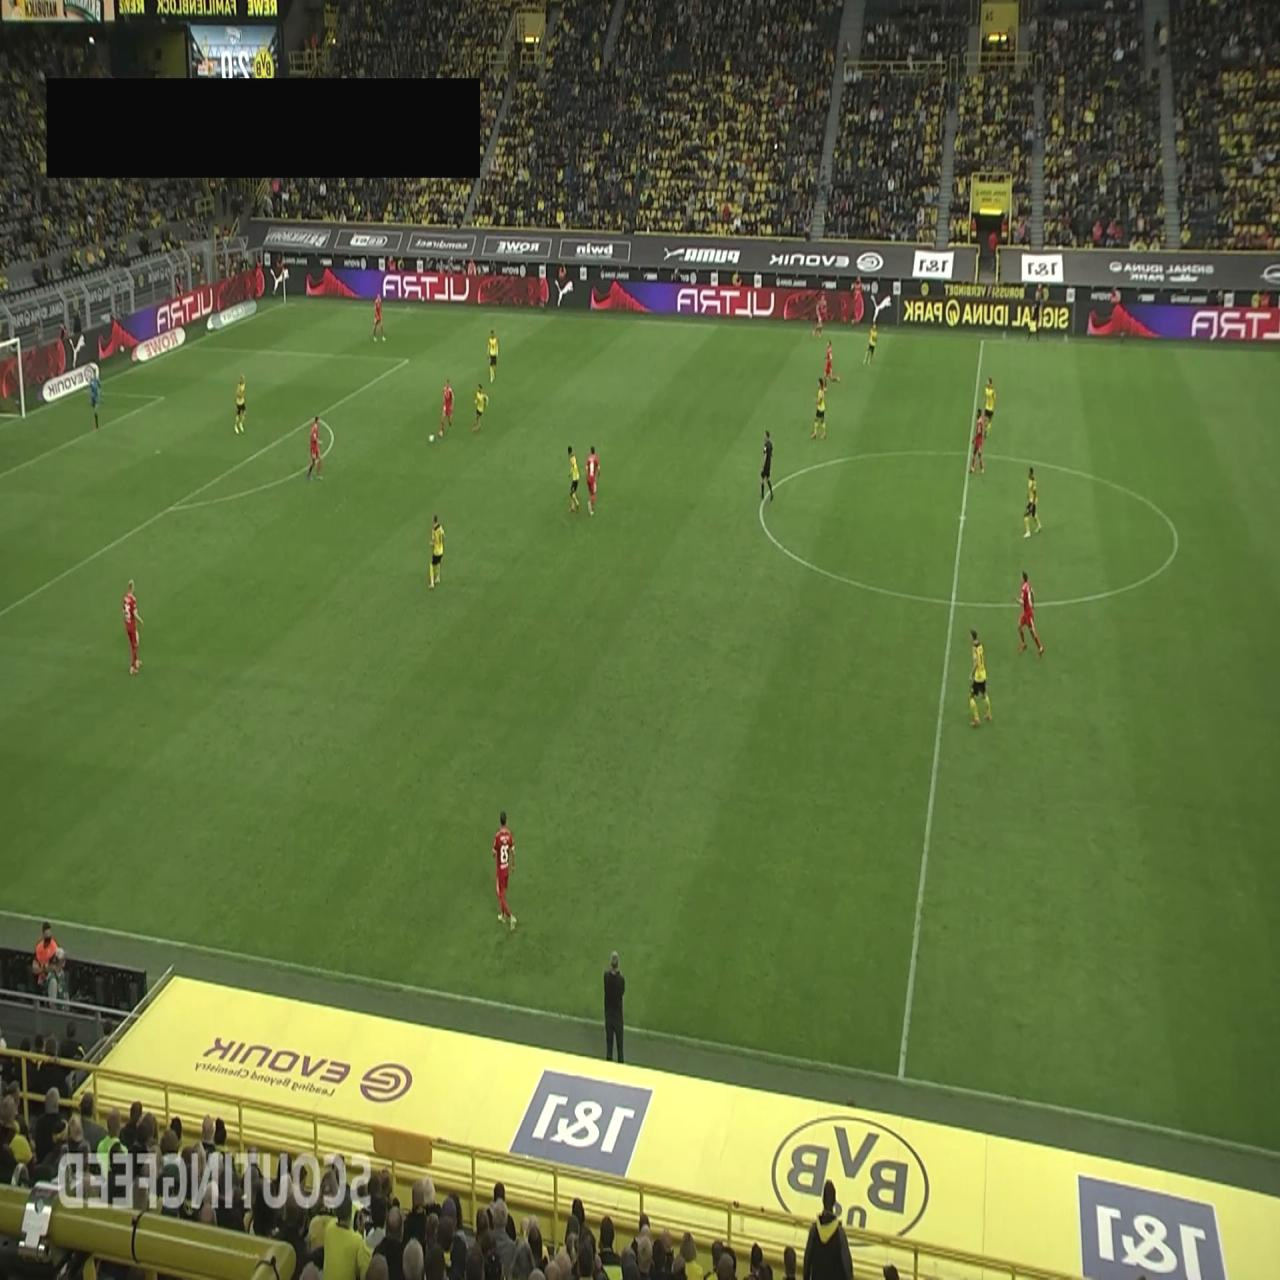ball: (428, 432, 434, 446)
goalkeeper: (89, 368, 101, 432)
player: (492, 808, 517, 934), (1014, 570, 1044, 658), (968, 628, 992, 727), (122, 578, 143, 676), (1023, 466, 1042, 537), (429, 514, 445, 588), (584, 443, 600, 517), (970, 409, 986, 474), (307, 416, 323, 481), (811, 378, 827, 441), (566, 445, 580, 513), (439, 378, 455, 436), (472, 382, 489, 432), (824, 341, 842, 386), (983, 376, 996, 435), (812, 292, 828, 339), (234, 372, 246, 434), (372, 292, 386, 342), (863, 322, 878, 367), (486, 327, 498, 383)
referee: (759, 429, 774, 503), (1026, 288, 1040, 342)
